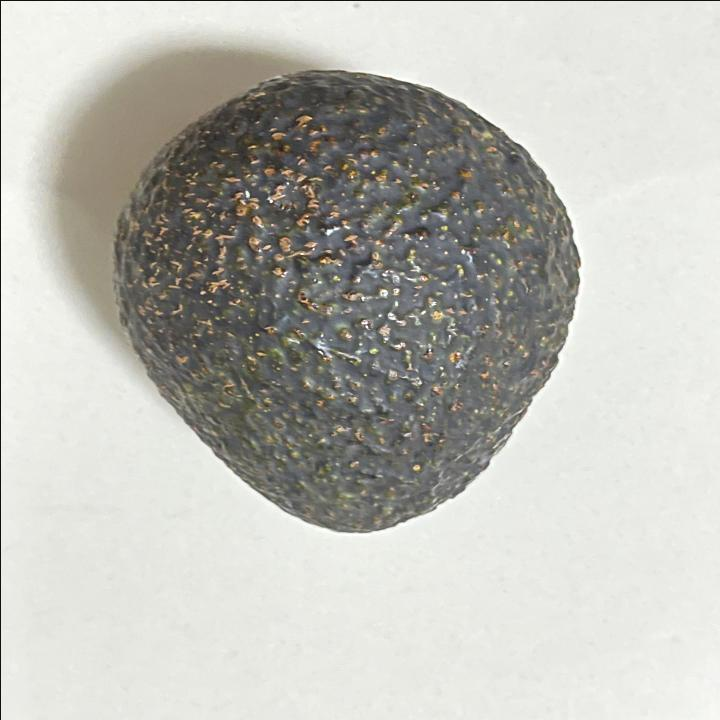Level1: (104, 56, 596, 543)
